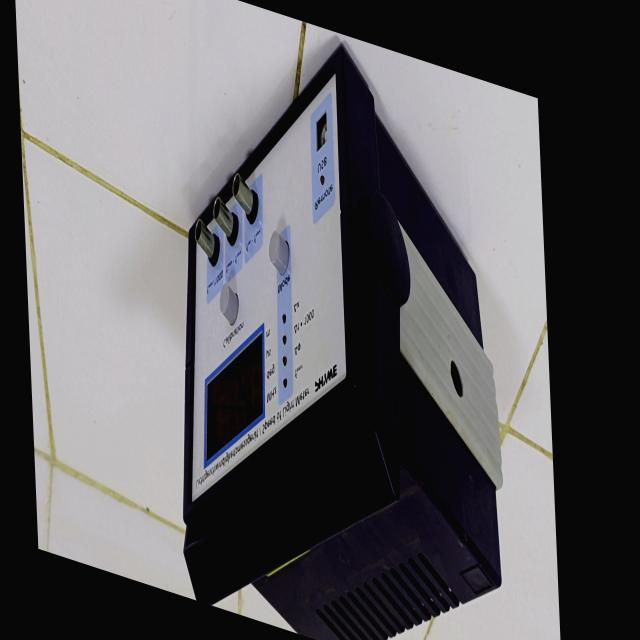Power Supply of Speed of Light Demo: (146, 0, 532, 640)
